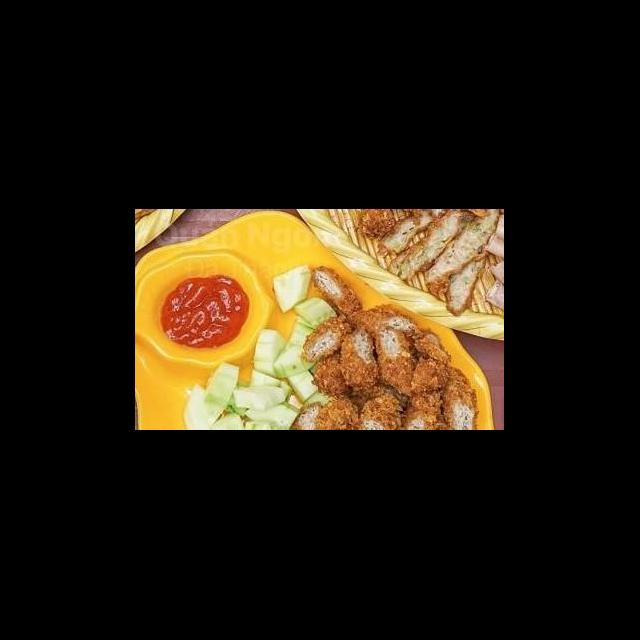cha com: (284, 302, 484, 431), (354, 210, 504, 322), (308, 262, 368, 320)
